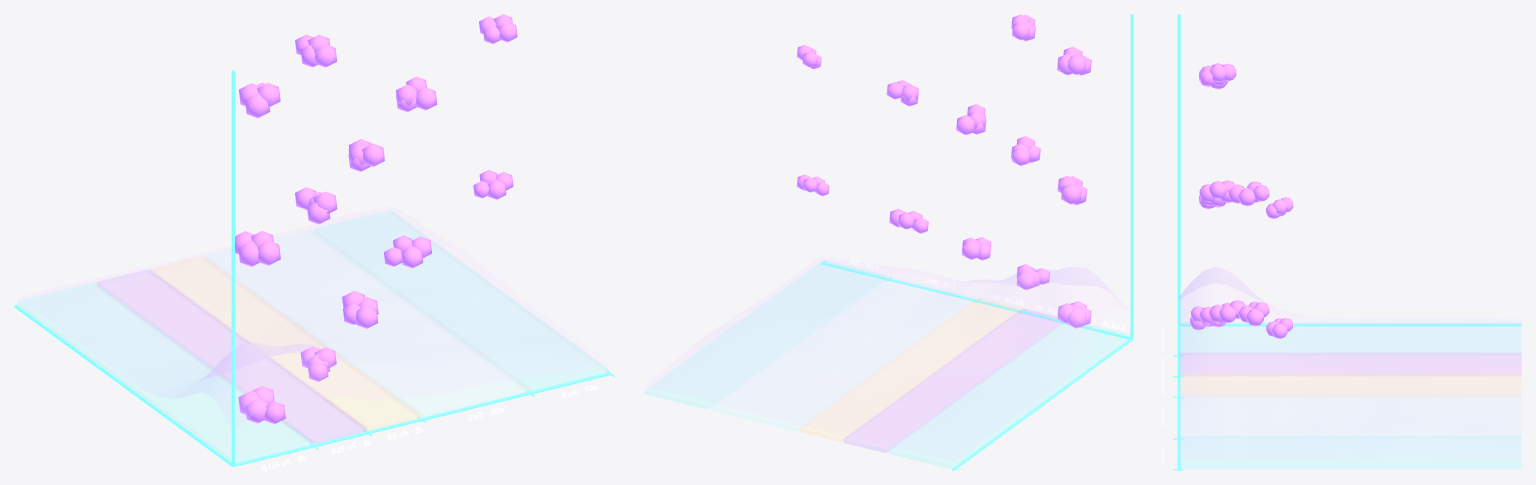
The model's file is cube_cgm.glb.
3 views of the same model, side by side, from view 1: azimuth 30°, elevation 25°; view 2: azimuth 150°, elevation 25°; view 3: azimuth 270°, elevation 25° (orthographic). The views are drawn at different scales.
Visible parts, largest first — view 1: cgm_BandLandscape, cgm_BandSlab_Circadian, cgm_BandSlab_Fast metabolic, cgm_EnergyLobes, cgm_BandSlab_Ultradian, cgm_BandSlab_Meal-related, cgm_BandSlab_Postprandial, cgm_Axis_t, cgm_Axis_fc, cgm_Axis_fam; view 2: cgm_BandLandscape, cgm_BandSlab_Circadian, cgm_BandSlab_Fast metabolic, cgm_BandSlab_Ultradian, cgm_BandSlab_Meal-related, cgm_EnergyLobes, cgm_Axis_t, cgm_Axis_fc, cgm_Axis_fam, cgm_BandSlab_Postprandial; view 3: cgm_BandLandscape, cgm_BandSlab_Fast metabolic, cgm_BandSlab_Circadian, cgm_BandSlab_Ultradian, cgm_BandSlab_Meal-related, cgm_EnergyLobes, cgm_Axis_t, cgm_Axis_fam, cgm_Axis_fc.
Part boxes in pixels (bbox=[...]): cgm_BandLandscape: bbox=[18, 206, 608, 429]; cgm_BandSlab_Circadian: bbox=[18, 283, 311, 462]; cgm_BandSlab_Fast metabolic: bbox=[314, 210, 607, 390]; cgm_EnergyLobes: bbox=[235, 14, 517, 424]; cgm_BandSlab_Ultradian: bbox=[97, 269, 365, 443]; cgm_BandSlab_Meal-related: bbox=[152, 256, 419, 430]; cgm_BandSlab_Postprandial: bbox=[398, 379, 526, 416]; cgm_Axis_t: bbox=[231, 70, 234, 466]; cgm_Axis_fc: bbox=[233, 372, 610, 466]; cgm_Axis_fam: bbox=[14, 304, 233, 466]; cgm_BandLandscape: bbox=[645, 257, 1127, 462]; cgm_BandSlab_Circadian: bbox=[889, 323, 1129, 468]; cgm_BandSlab_Fast metabolic: bbox=[645, 260, 886, 408]; cgm_BandSlab_Ultradian: bbox=[844, 309, 1061, 452]; cgm_BandSlab_Meal-related: bbox=[800, 298, 1019, 441]; cgm_EnergyLobes: bbox=[796, 14, 1091, 328]; cgm_Axis_t: bbox=[1130, 14, 1133, 338]; cgm_Axis_fc: bbox=[822, 262, 1130, 339]; cgm_Axis_fam: bbox=[952, 338, 1133, 470]; cgm_BandSlab_Postprandial: bbox=[712, 404, 800, 430]; cgm_BandLandscape: bbox=[1179, 267, 1520, 462]; cgm_BandSlab_Fast metabolic: bbox=[1180, 436, 1520, 468]; cgm_BandSlab_Circadian: bbox=[1180, 322, 1520, 351]; cgm_BandSlab_Ultradian: bbox=[1180, 353, 1520, 372]; cgm_BandSlab_Meal-related: bbox=[1180, 374, 1520, 393]; cgm_EnergyLobes: bbox=[1190, 63, 1293, 338]; cgm_Axis_t: bbox=[1177, 14, 1180, 324]; cgm_Axis_fam: bbox=[1180, 323, 1521, 326]; cgm_Axis_fc: bbox=[1177, 324, 1180, 470].
Size of the model in its own units: 10.06 by 10.06 by 10.49.
